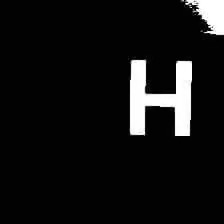LTR_H: (119, 49, 193, 145)
